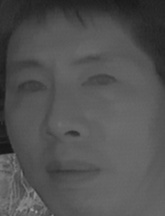eye: (78, 71, 118, 94), (14, 76, 49, 95)
mouth: (43, 156, 102, 190)
